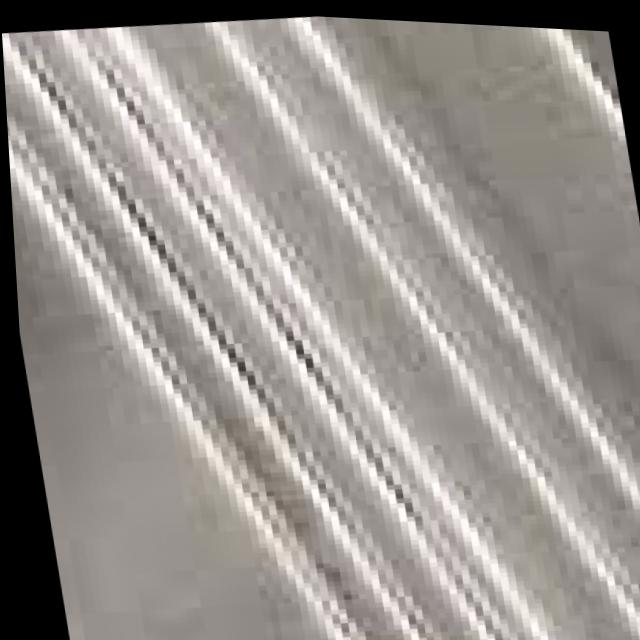metal-plates: (2, 13, 640, 640)
